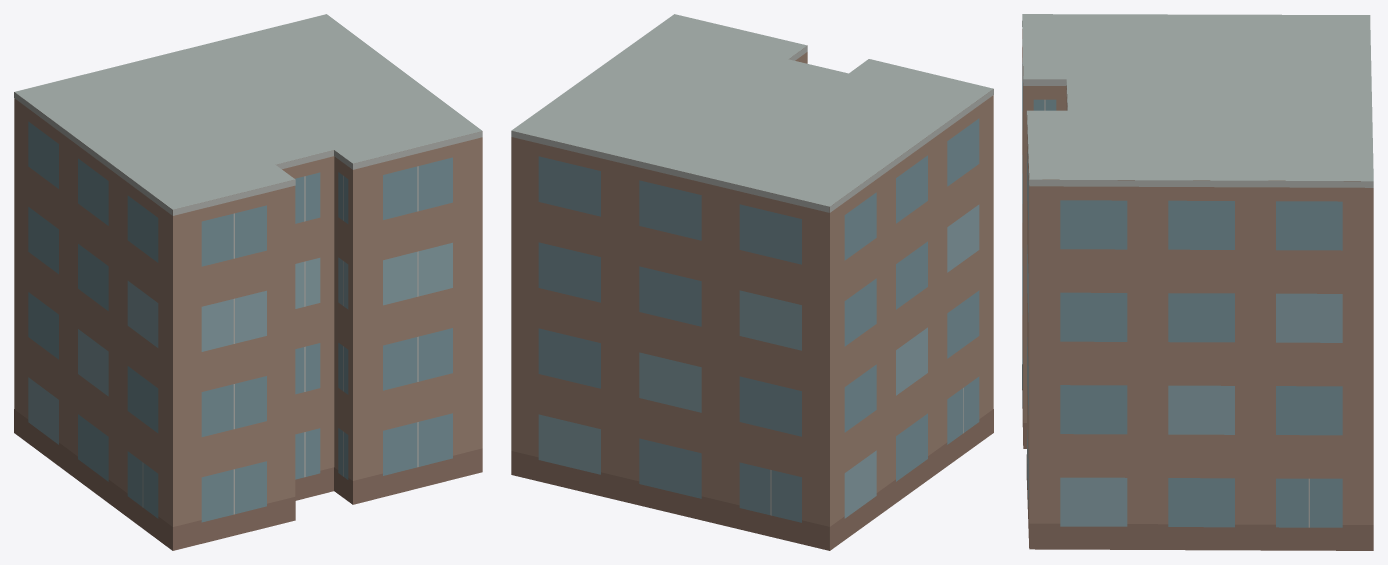
The model's file is survey-upis-32840879.glb.
3 renders of one model, left to right at view 1: azimuth 30°, elevation 25°; view 2: azimuth 150°, elevation 25°; view 3: azimuth 270°, elevation 25°, orthographic. The views are drawn at different scales.
Parts seen in each view (by area): view 1: survey-upis-32840879.tmp; view 2: survey-upis-32840879.tmp; view 3: survey-upis-32840879.tmp.
Part boxes in pixels (x1=…): survey-upis-32840879.tmp: x1=14, y1=14, x2=482, y2=550; survey-upis-32840879.tmp: x1=511, y1=14, x2=993, y2=550; survey-upis-32840879.tmp: x1=1022, y1=14, x2=1373, y2=550.
Bounding box in the file's own units: 13.1 × 13.5 × 11.65.
